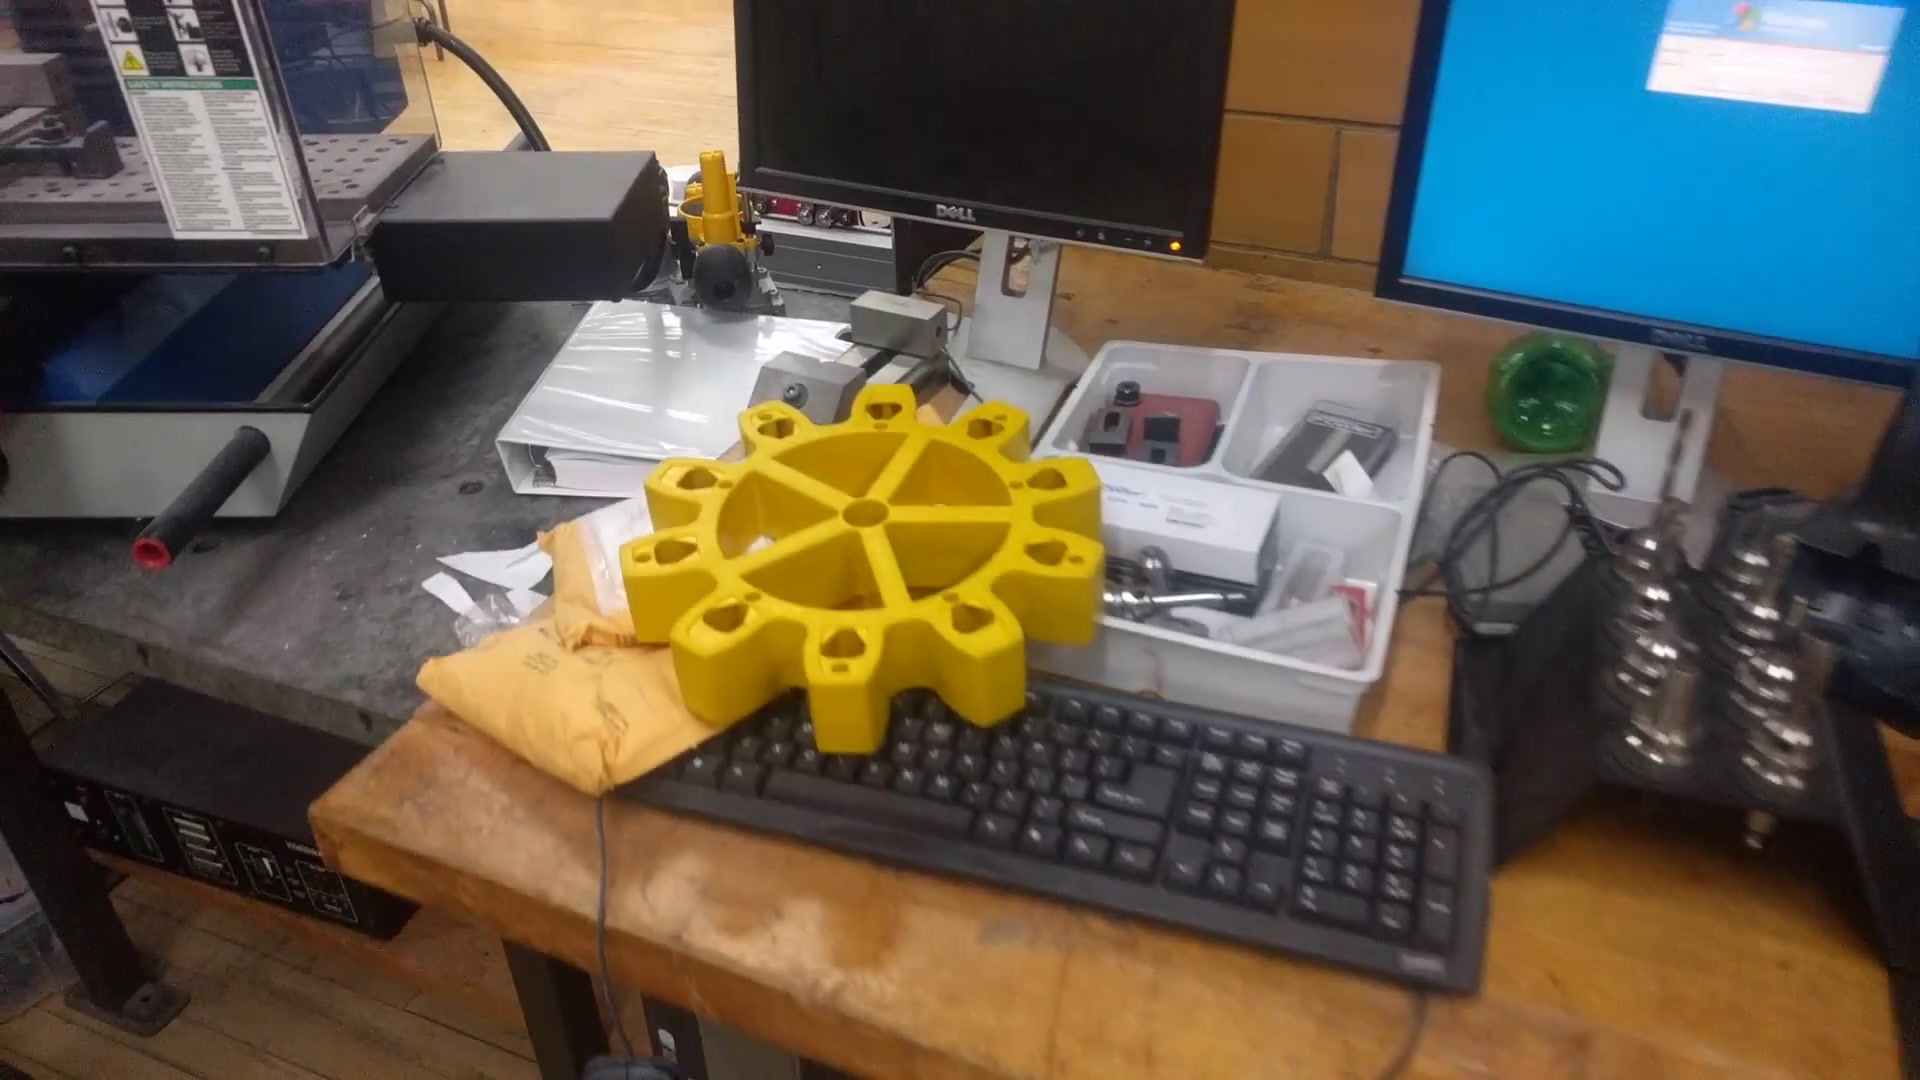gear: (607, 369, 1130, 761)
